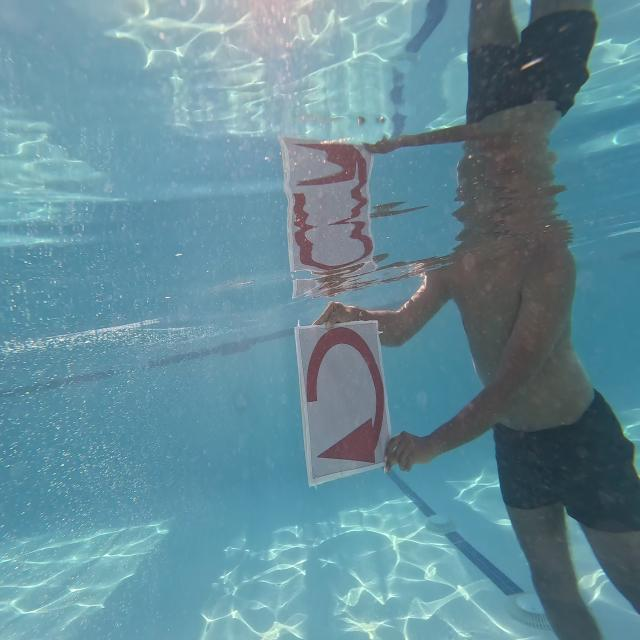red_side: (305, 317, 388, 483)
